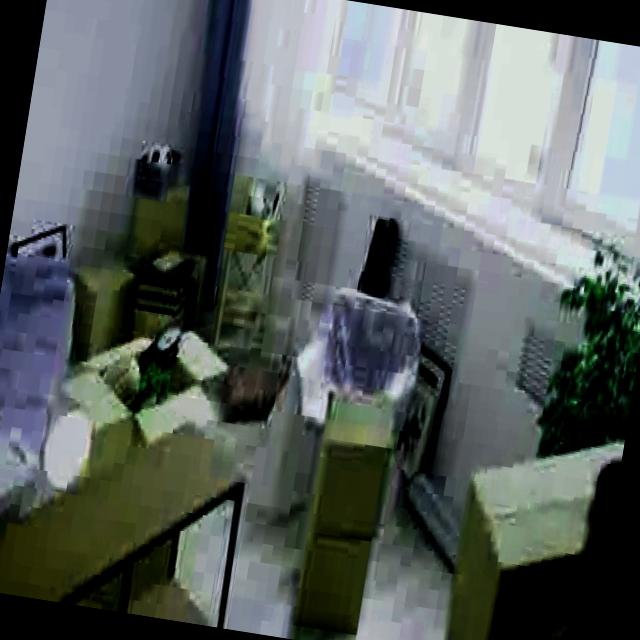Box: (308, 399, 398, 527), (58, 251, 138, 378), (290, 532, 370, 632)
